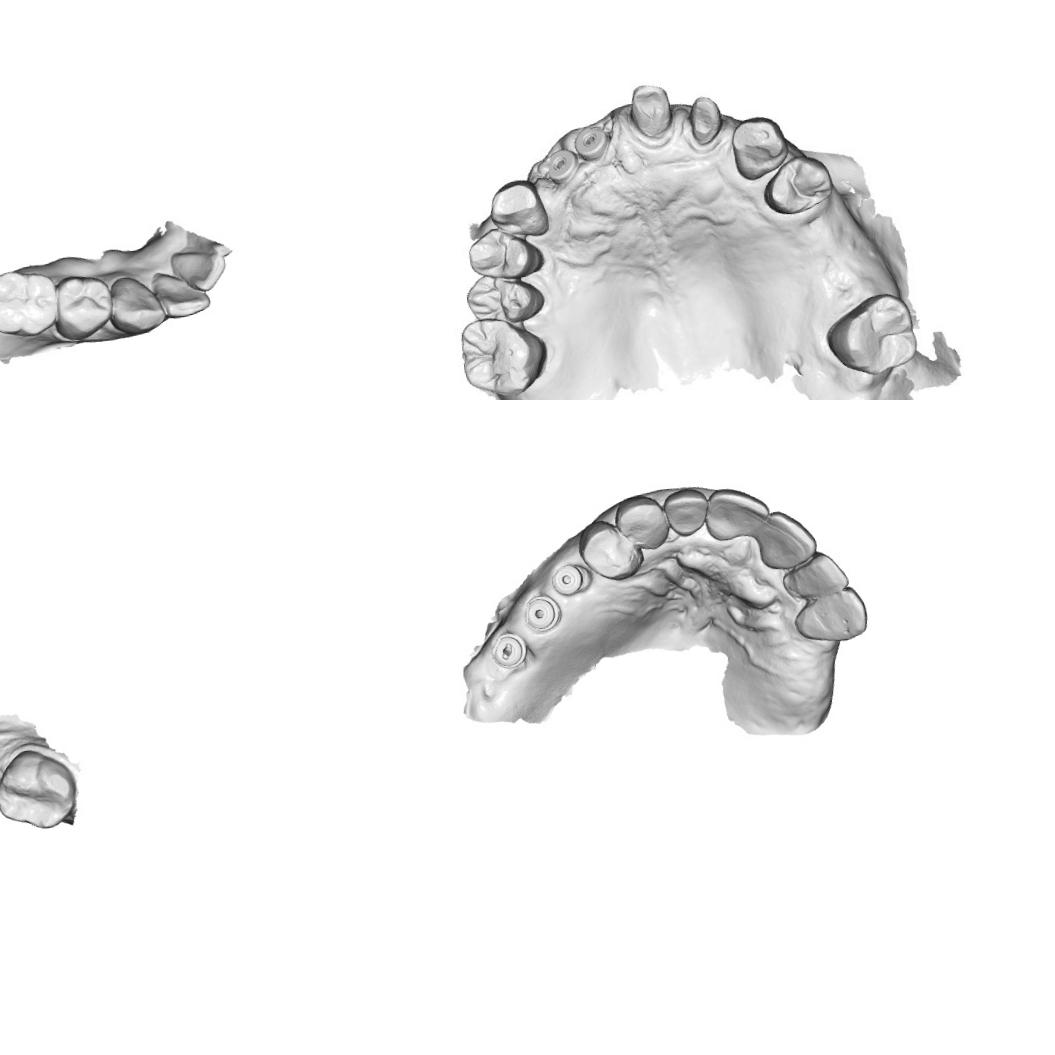canine: (790, 584, 870, 647), (723, 112, 792, 184), (486, 176, 556, 242), (106, 271, 168, 340), (612, 490, 673, 552)
crown: (623, 80, 675, 144), (681, 92, 729, 146)
implant: (521, 592, 563, 634), (548, 561, 592, 597), (543, 146, 580, 186), (573, 124, 610, 162)
implant_minus: (488, 629, 530, 670)
incisor: (701, 482, 773, 544), (754, 506, 820, 571), (780, 548, 851, 603), (150, 264, 211, 320), (169, 244, 229, 294), (661, 486, 712, 538)
molar: (822, 290, 919, 382), (455, 313, 552, 400), (0, 745, 79, 834), (0, 267, 59, 339)
premolar: (757, 151, 837, 222), (463, 270, 548, 332), (575, 515, 647, 585), (51, 270, 113, 344), (465, 226, 543, 283)
